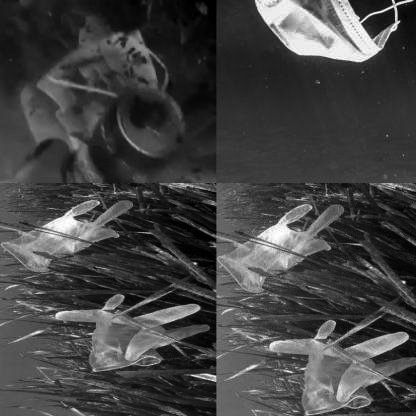Mask: (39, 35, 175, 147), (241, 0, 416, 66)
glove: (262, 317, 415, 416), (50, 294, 215, 377), (217, 198, 348, 295), (1, 194, 133, 276)
